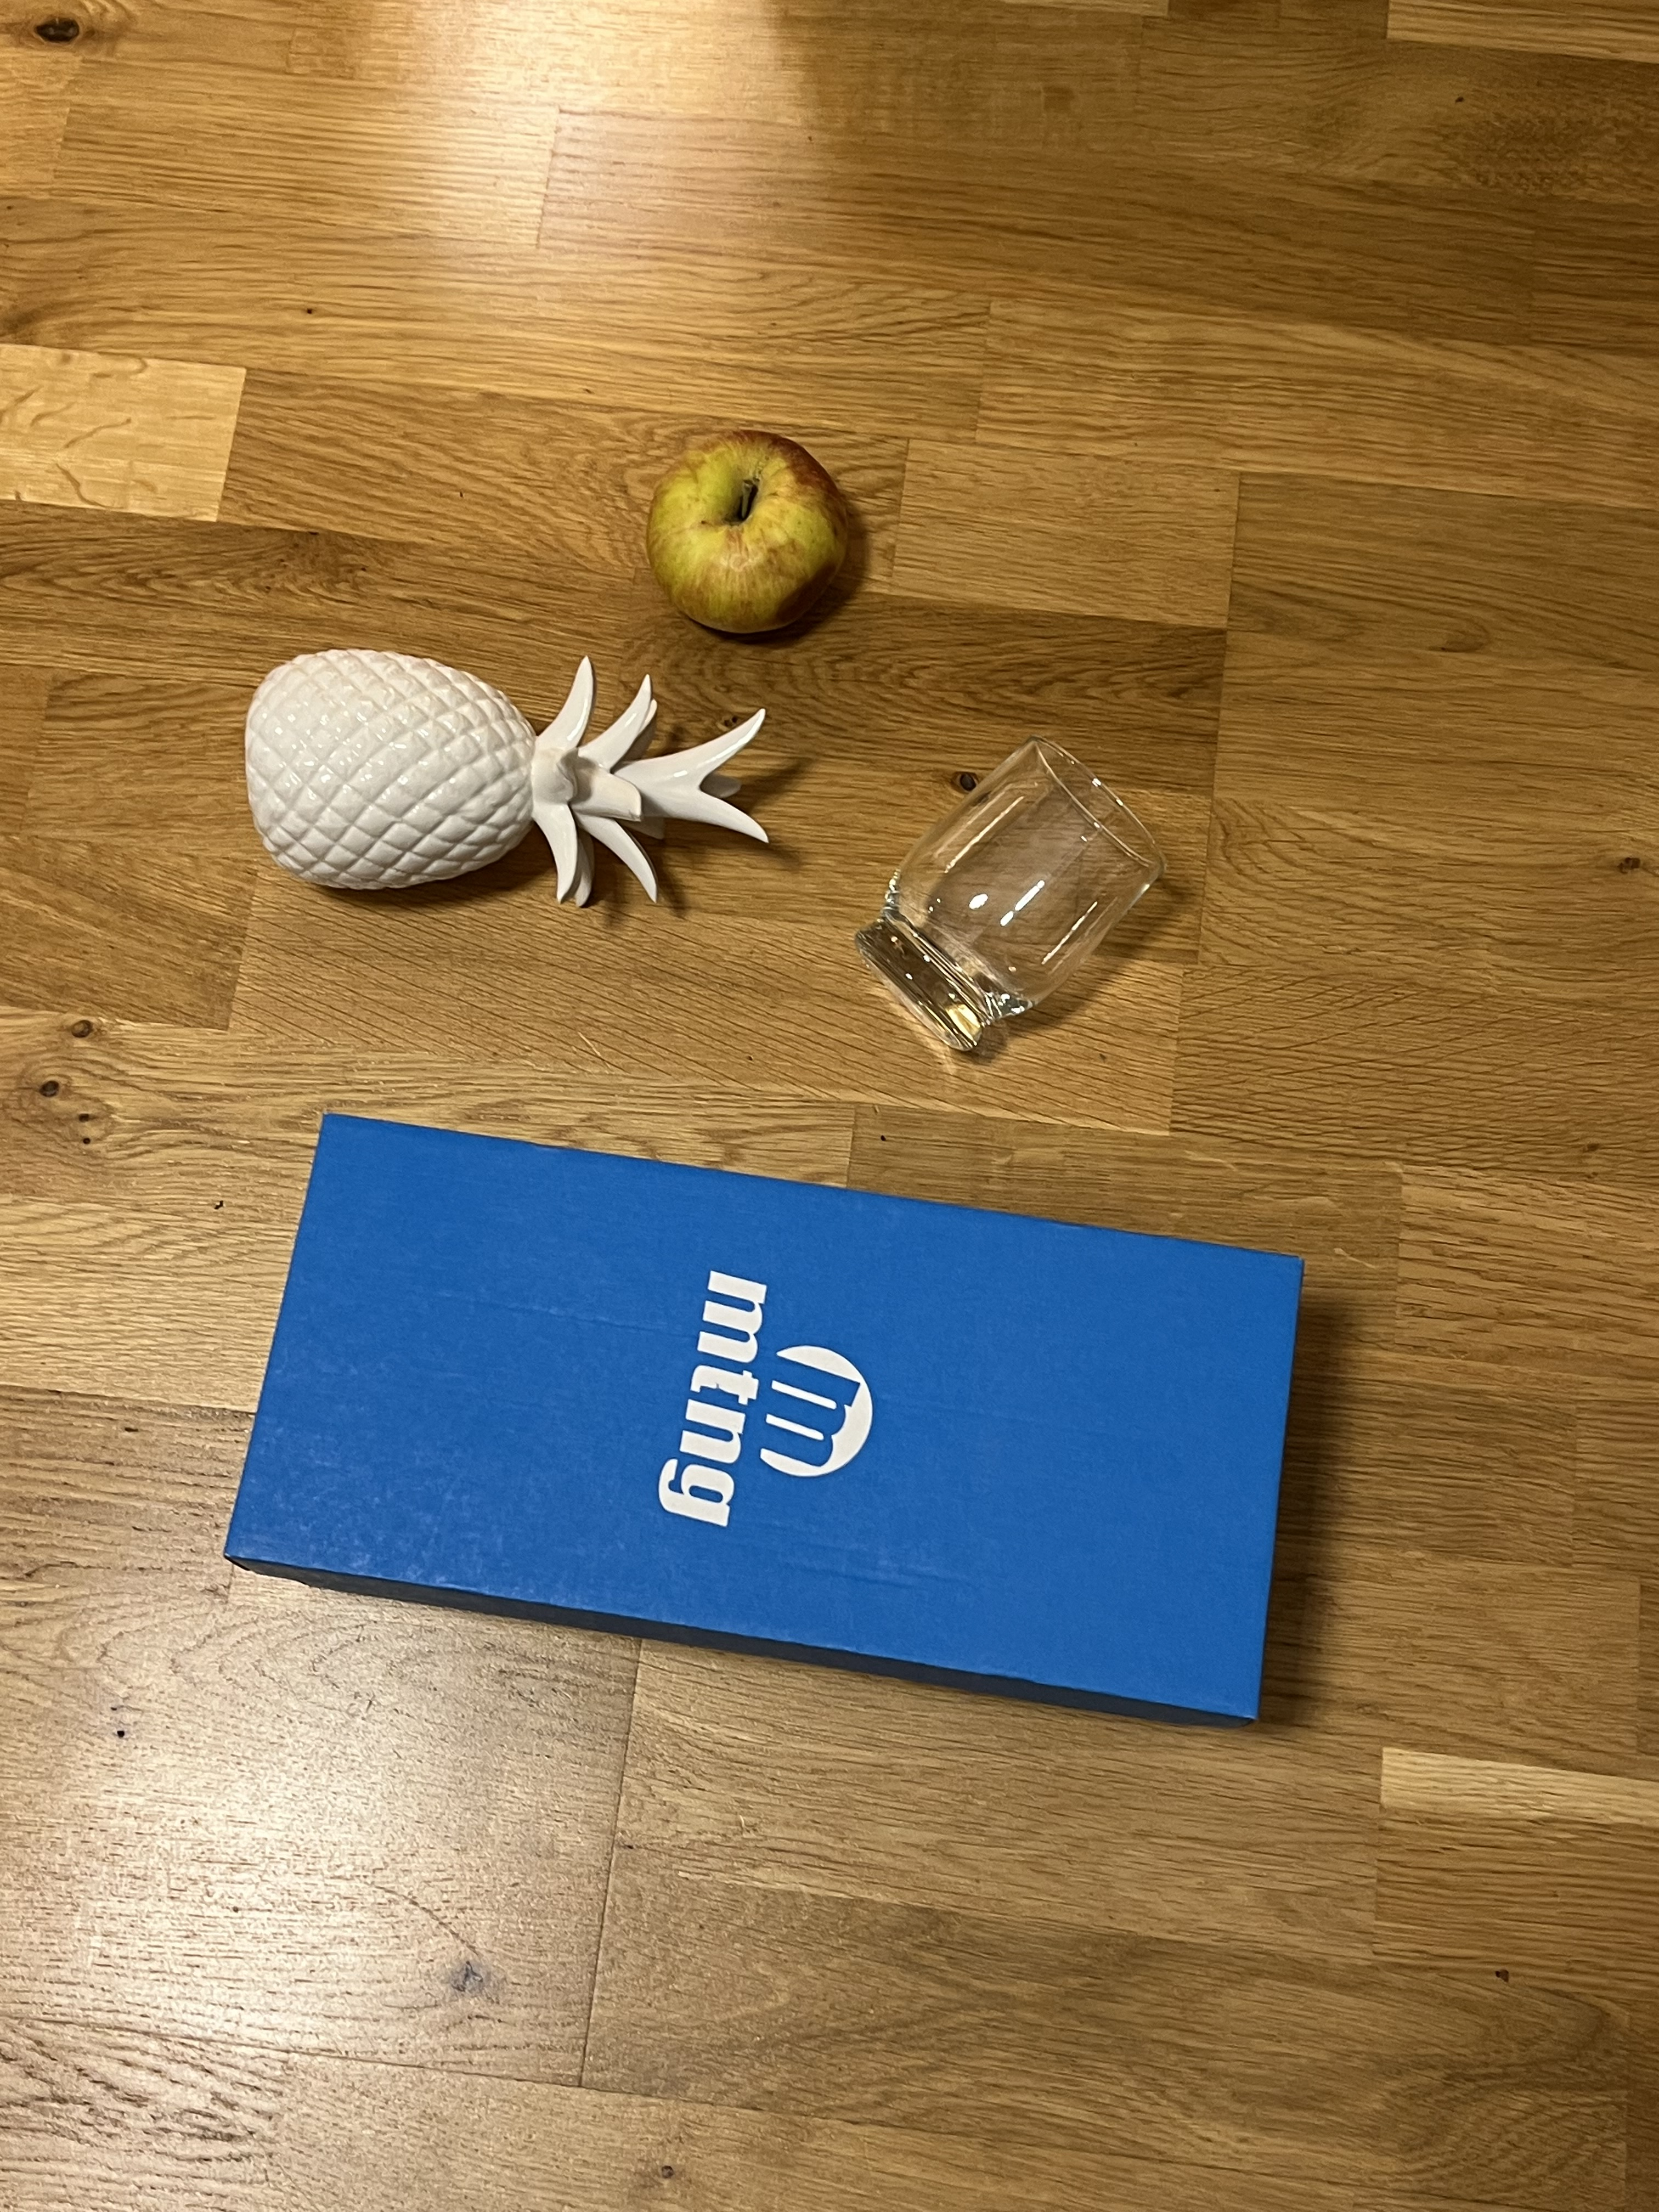BIODEGRADABLE: (1040, 712, 1260, 1015), (634, 418, 861, 641)
GLASS: (284, 1097, 1351, 1580)
